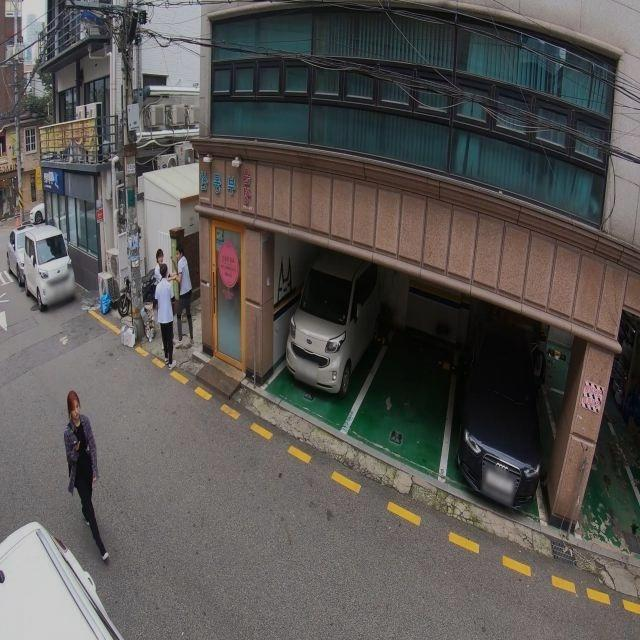fight: (146, 244, 200, 368)
non-fight: (56, 389, 118, 567)
